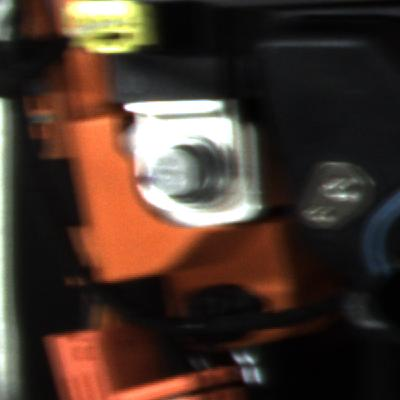nut_b: (149, 133, 232, 204)
